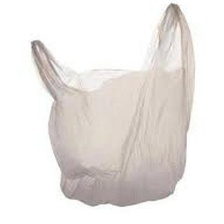plastic_bag: (23, 0, 196, 210)
